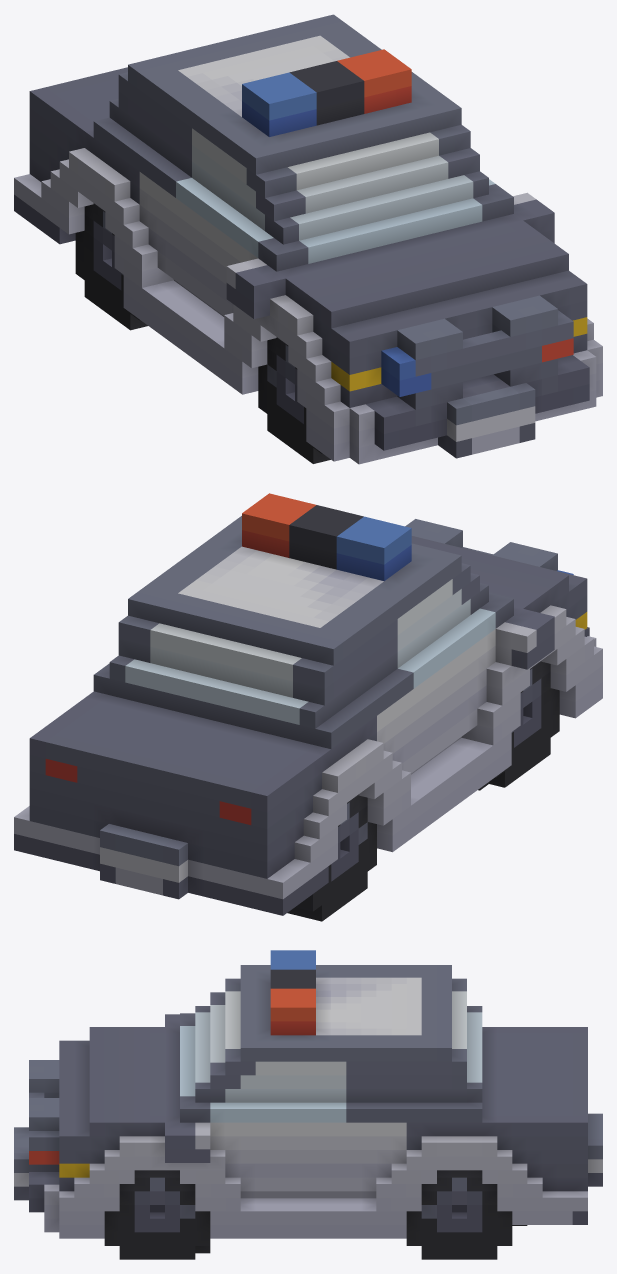
The model's file is police_car.glb.
3 renders of one model, top to bottom at view 1: azimuth 30°, elevation 25°; view 2: azimuth 150°, elevation 25°; view 3: azimuth 270°, elevation 25°, orthographic. The views are drawn at different scales.
Parts seen in each view (by area): view 1: voxels; view 2: voxels; view 3: voxels.
Boxes of the visible parts, x1,y1,x2,y2 form: voxels: (14,14,602,464); voxels: (14,493,602,921); voxels: (14,950,602,1259).
Bounding box in the file's own units: 1.54 × 1.38 × 3.17.
